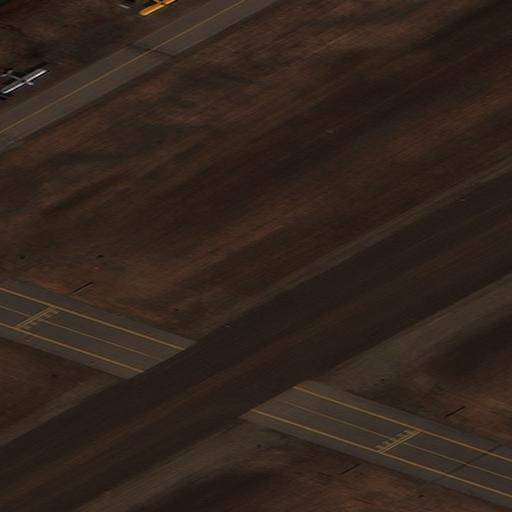Small Civil Transport: (2, 70, 48, 94), (143, 0, 181, 16)
